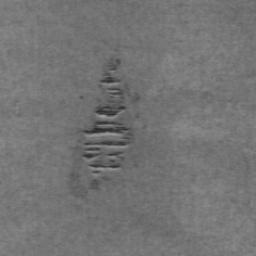Secondary rust skin: (82, 57, 134, 191)
